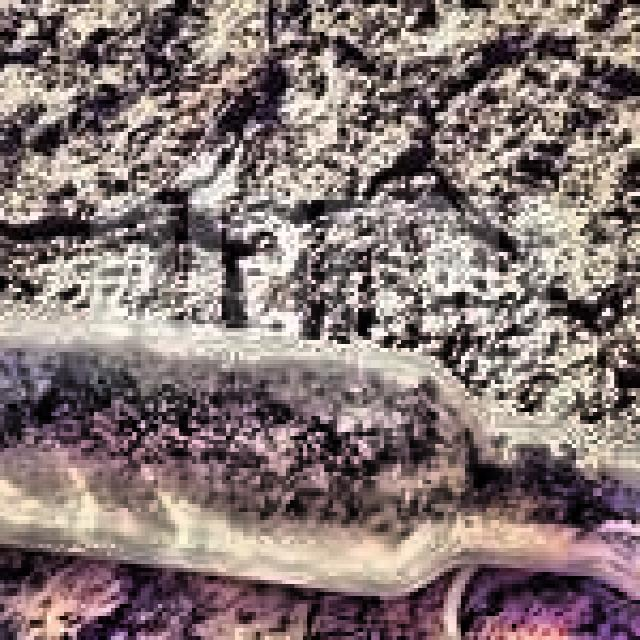glass: (0, 300, 640, 602)
